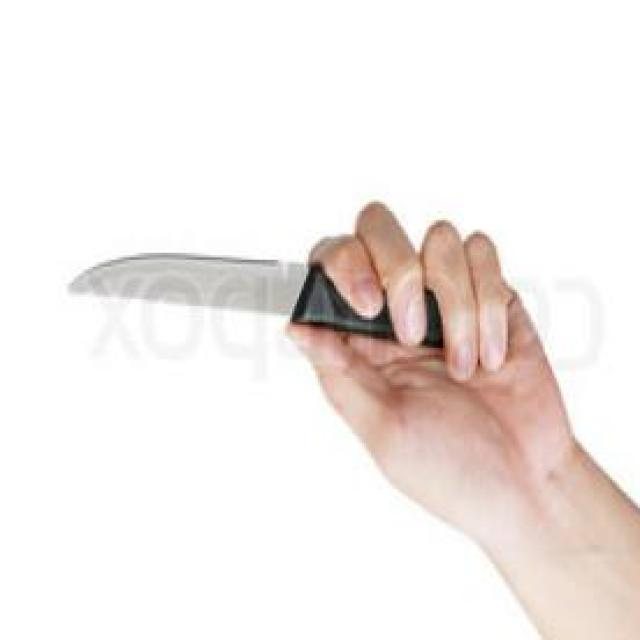knife: (56, 201, 433, 357)
